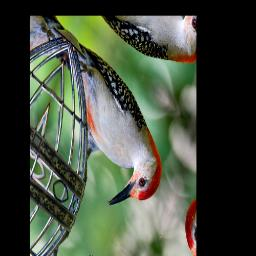Woodpecker: (39, 30, 177, 236)
